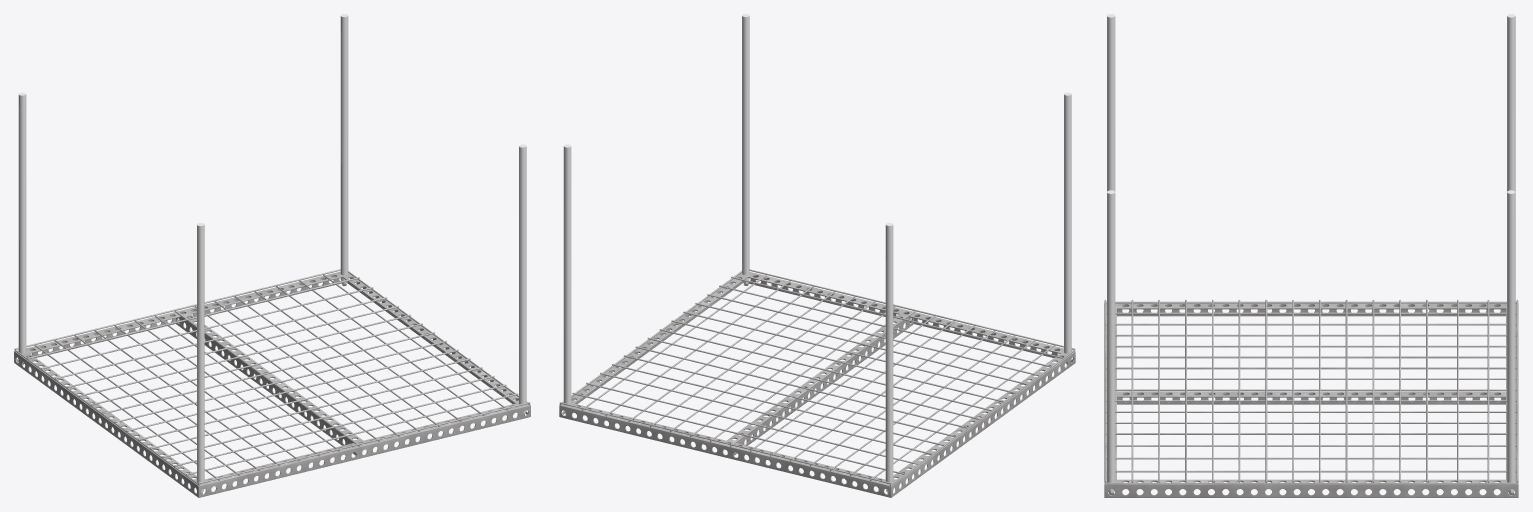
3 views of the same model, side by side, from view 1: azimuth 30°, elevation 25°; view 2: azimuth 150°, elevation 25°; view 3: azimuth 270°, elevation 25° (orthographic). The views are drawn at different scales.
Visible parts, largest first — view 1: Grill, Rods; view 2: Grill, Rods; view 3: Grill, Rods.
Boxes of the visible parts, x1,y1,x2,y2 form: Grill: [14, 269, 530, 497]; Rods: [18, 14, 526, 494]; Grill: [559, 269, 1075, 497]; Rods: [563, 14, 1071, 494]; Grill: [1104, 299, 1518, 497]; Rods: [1107, 14, 1515, 494].
Bounding box in the file's own units: 32.14 × 24.97 × 30.94.
Materials: 2 (2 with a texture image).
